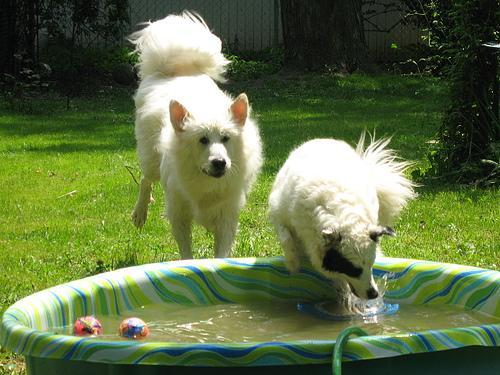Great_Pyrenees: (129, 11, 265, 261), (268, 134, 415, 301)
